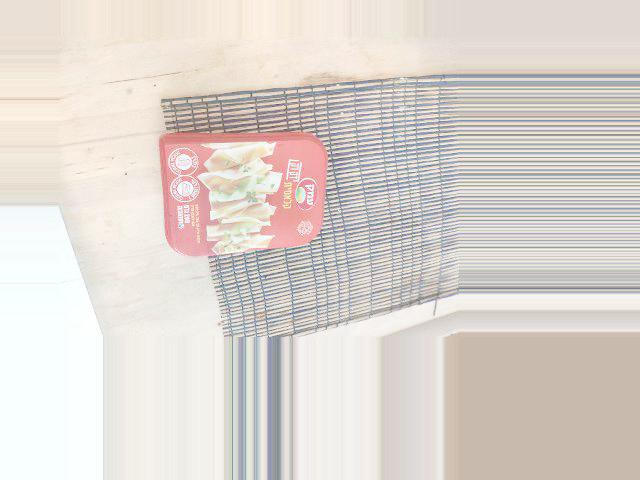cheese: (254, 165, 380, 353)
